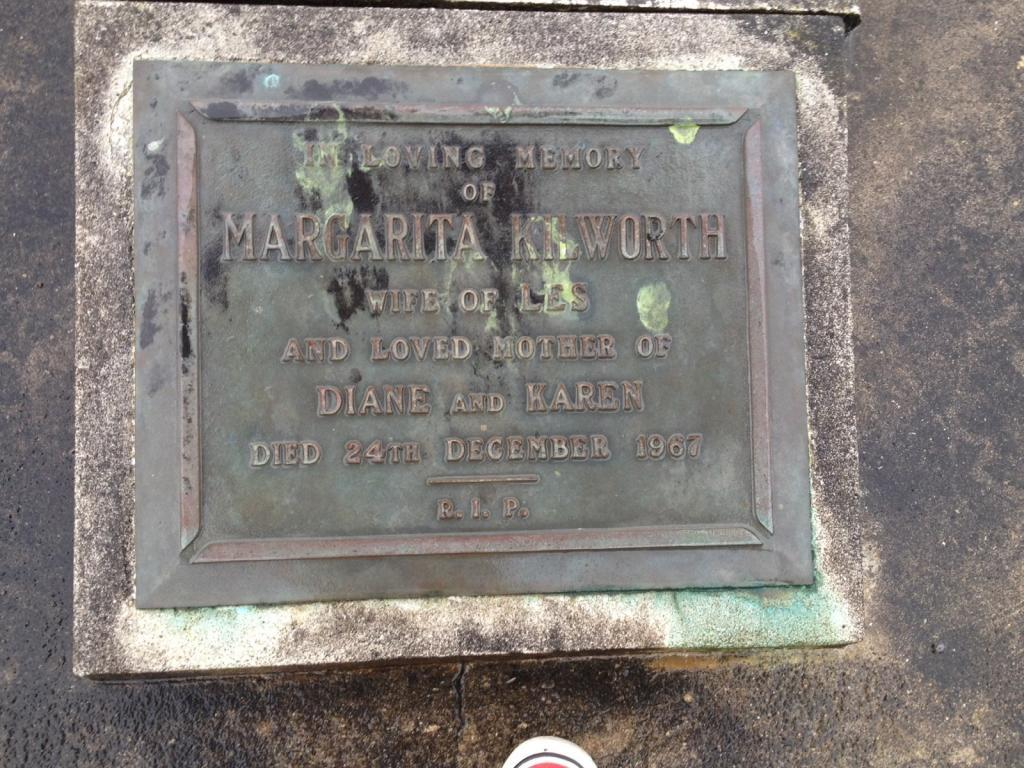flat: (87, 4, 874, 667)
